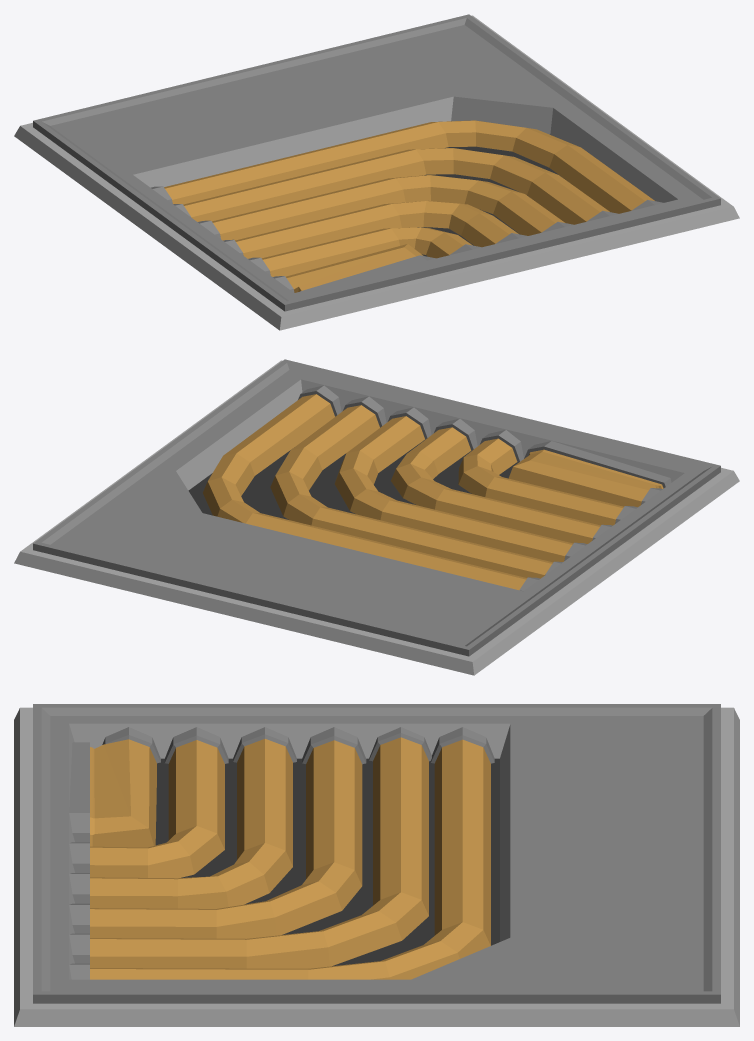
The model's file is rooftile_innercorner_pipes.010_lev3.glb.
3 views of the same model, one above another, from view 1: azimuth 30°, elevation 25°; view 2: azimuth 150°, elevation 25°; view 3: azimuth 270°, elevation 25° (orthographic). The views are drawn at different scales.
Visible parts, largest first — view 1: rooftile_innercorner_pipes.010_lev3; view 2: rooftile_innercorner_pipes.010_lev3; view 3: rooftile_innercorner_pipes.010_lev3.
Part boxes in pixels (x1=…): rooftile_innercorner_pipes.010_lev3: x1=14, y1=14, x2=739, y2=330; rooftile_innercorner_pipes.010_lev3: x1=14, y1=359, x2=739, y2=675; rooftile_innercorner_pipes.010_lev3: x1=14, y1=704, x2=739, y2=1026.
Bounding box in the file's own units: 2 × 0.1147 × 2.
